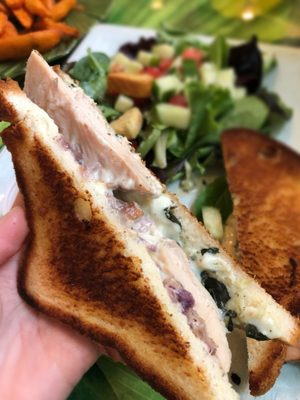soup: (0, 39, 300, 398)
